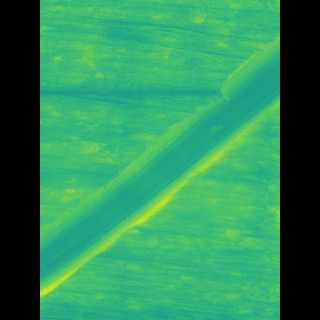Loch: (68, 34, 250, 297)
